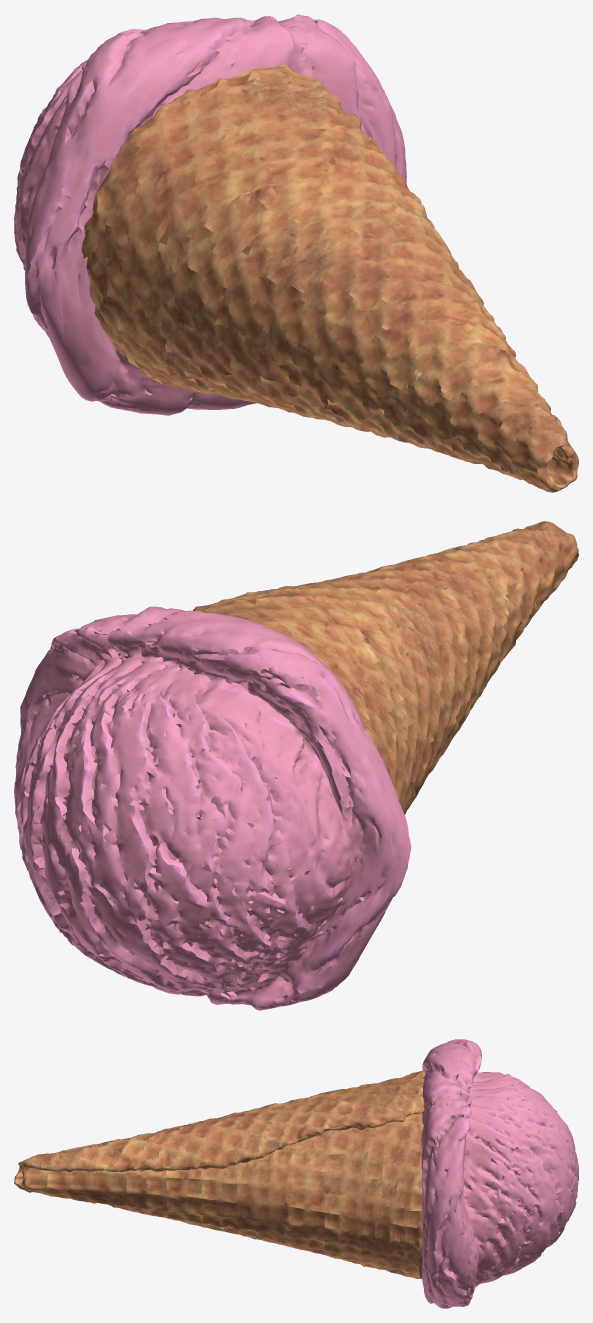
File: ice-cream.glb
The picture shows the model from 3 angles, top to bottom: view 1: azimuth 30°, elevation 25°; view 2: azimuth 150°, elevation 25°; view 3: azimuth 270°, elevation 25°; orthographic projection. The views are drawn at different scales.
Parts seen in each view (by area): view 1: SORVETE_Casquinha_0, SORVETE_Sorvete_0; view 2: SORVETE_Sorvete_0, SORVETE_Casquinha_0; view 3: SORVETE_Casquinha_0, SORVETE_Sorvete_0.
Part boxes in pixels (box(x1,y1,x2,y2)): SORVETE_Casquinha_0: box(81, 64, 578, 492); SORVETE_Sorvete_0: box(14, 14, 406, 415); SORVETE_Sorvete_0: box(14, 606, 411, 1010); SORVETE_Casquinha_0: box(193, 521, 578, 814); SORVETE_Casquinha_0: box(14, 1071, 425, 1278); SORVETE_Sorvete_0: box(421, 1039, 578, 1308).
Bounding box in the file's own units: 0.8659 × 0.828 × 1.81.
Materials: 2 (2 with a texture image).
